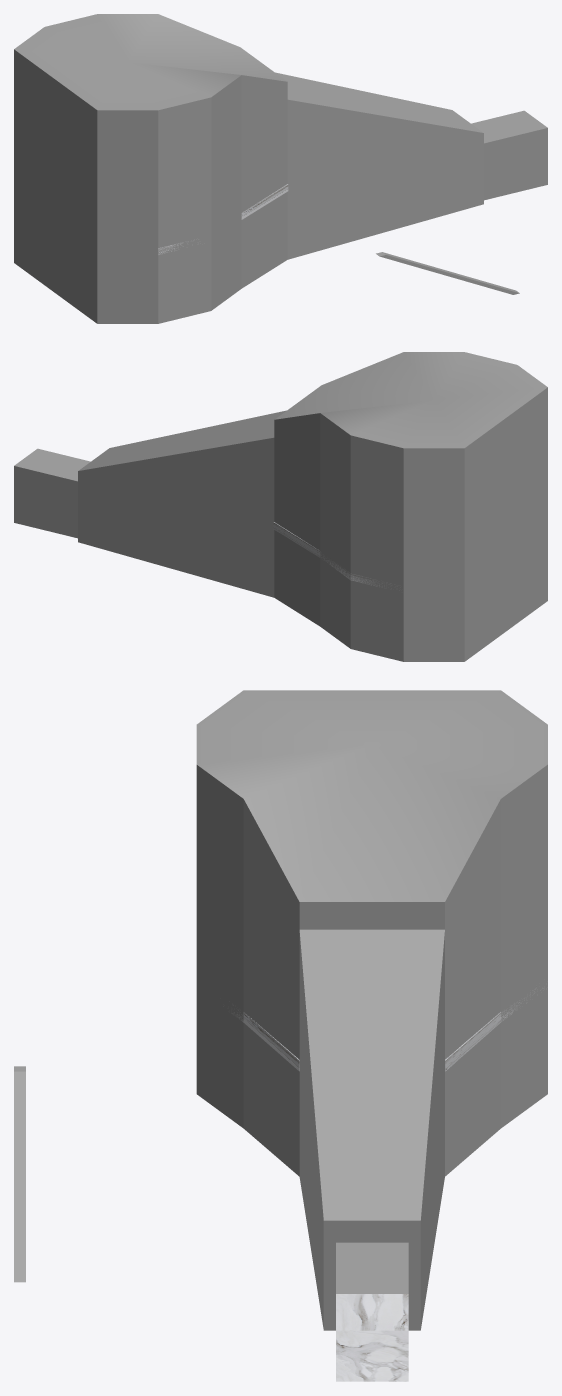
File: tallFeature.fbx
3 views of the same model, one above another, from view 1: azimuth 30°, elevation 25°; view 2: azimuth 150°, elevation 25°; view 3: azimuth 270°, elevation 25° (orthographic). The views are drawn at different scales.
Visible parts, largest first — view 1: pCylinder3, pCube3, floor2; view 2: pCylinder3, floor2; view 3: pCylinder3, pCube3, floor2.
Boxes of the visible parts, bbox=[...] form: pCylinder3: bbox=[14, 14, 547, 323]; pCube3: bbox=[376, 252, 519, 294]; floor2: bbox=[158, 184, 288, 254]; pCylinder3: bbox=[14, 352, 547, 661]; floor2: bbox=[273, 522, 400, 590]; pCylinder3: bbox=[196, 690, 547, 1381]; pCube3: bbox=[14, 1066, 25, 1282]; floor2: bbox=[223, 986, 543, 1071].
Bounding box in the file's own units: 70.61 × 30.99 × 44.03.
2 materials, 1 textured.
